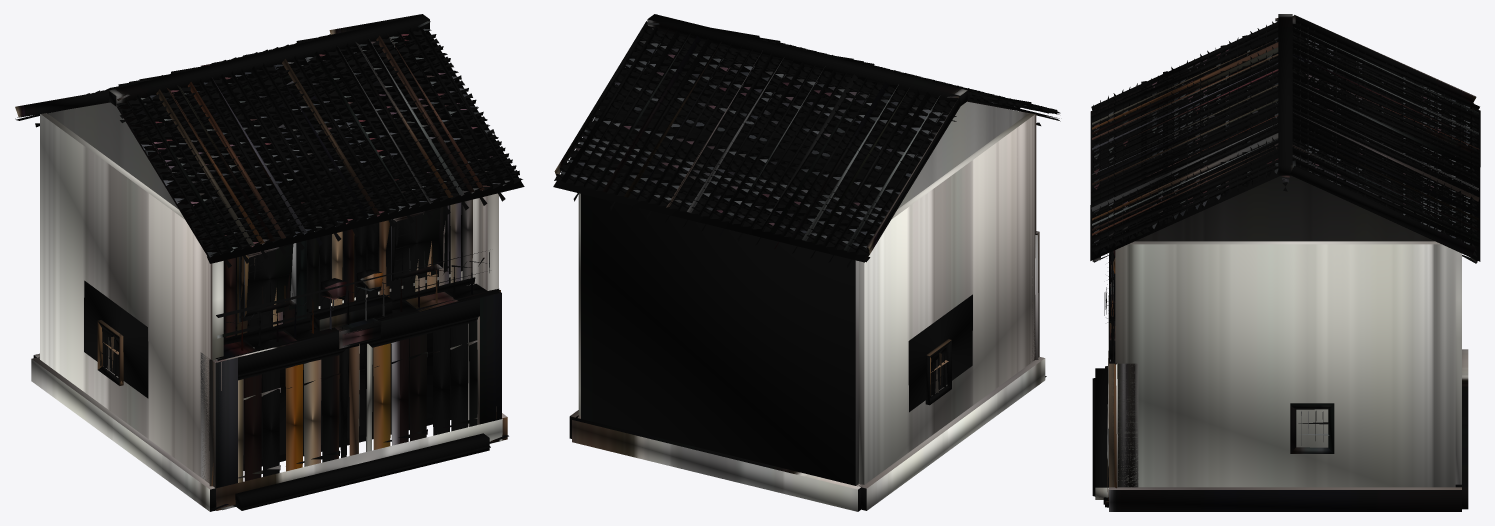
File: lib_lib_house_b2.far.glb
3 renders of one model, left to right at view 1: azimuth 30°, elevation 25°; view 2: azimuth 150°, elevation 25°; view 3: azimuth 270°, elevation 25°, orthographic.
Parts seen in each view (by area): view 1: lo; view 2: lo; view 3: lo.
Part boxes in pixels (box(x1,y1,x2,y2)): lo: box(15, 14, 524, 511); lo: box(553, 14, 1060, 511); lo: box(1090, 14, 1480, 511).
Size of the model in its own units: 7.38 by 7.94 by 8.01.
Materials: 1 (1 with a texture image).
